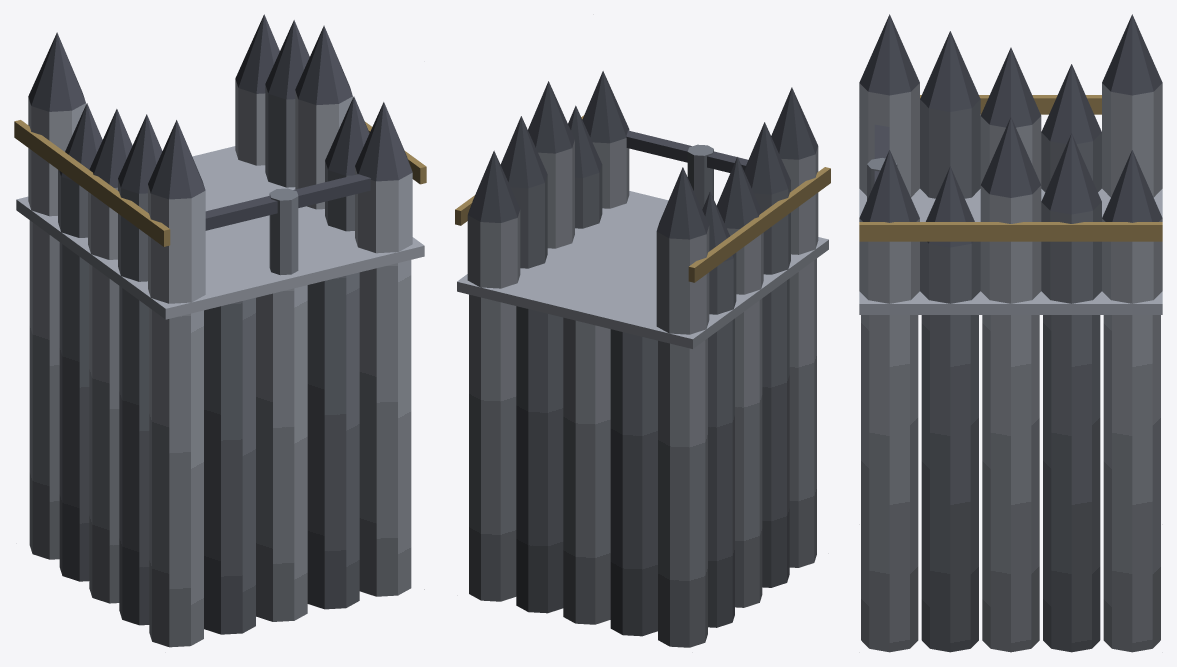
The model's file is perimeter_wall_metal_f1.glb.
3 views of the same model, side by side, from view 1: azimuth 30°, elevation 25°; view 2: azimuth 150°, elevation 25°; view 3: azimuth 270°, elevation 25° (orthographic). The views are drawn at different scales.
Bounding box in the file's own units: 2.03 × 3.9 × 2.
Materials: 1 (1 with a texture image).
